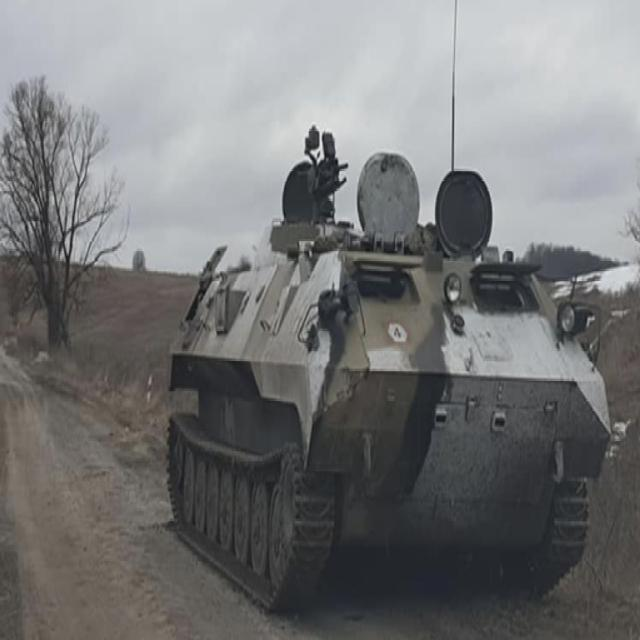APC-IFV: (161, 138, 601, 616)
